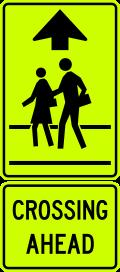School Ahead: (9, 0, 113, 261)
